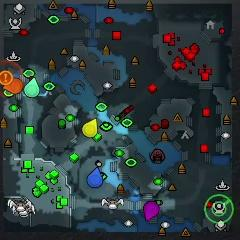Other: (0, 70, 14, 85)
p1: (87, 166, 103, 188)
p2: (24, 77, 40, 97)
p3: (144, 201, 160, 221)
p4: (83, 118, 98, 138)
p5: (3, 77, 22, 93)
